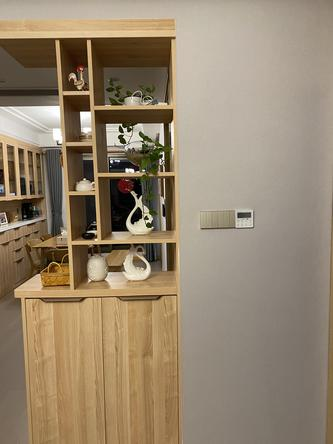switch: (198, 209, 206, 231), (206, 209, 212, 229), (218, 209, 224, 229), (224, 209, 230, 229), (213, 209, 218, 230), (230, 209, 235, 228)
